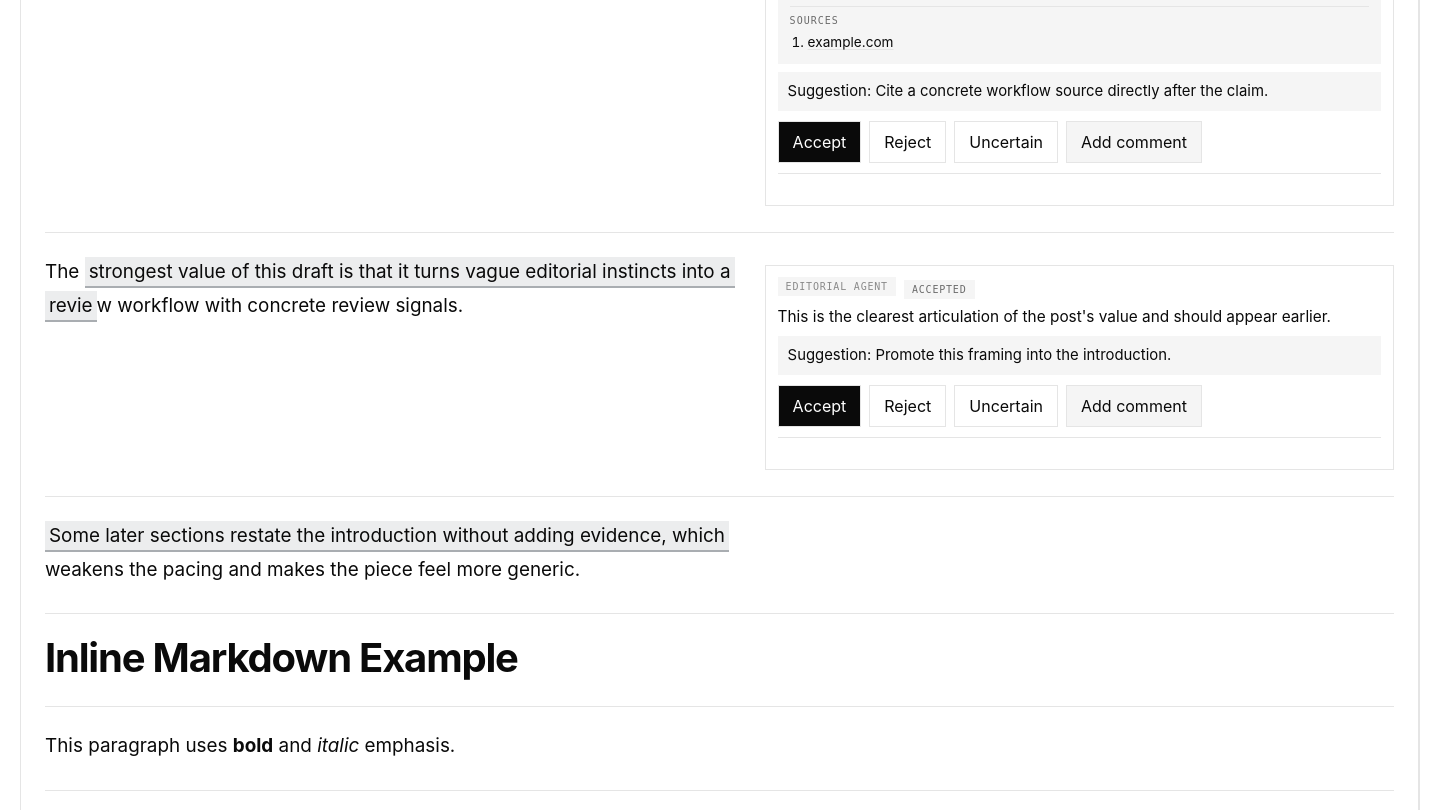
Test: ReviewWorkbench › reveals the inline comment composer only after clicking add comment
(page scrolled)
Step 1. Click the button with test id "reply-toggle-comment-2" → point(1134, 406), box x1=1066 y1=385 x2=1202 y2=427
(page scrolled)
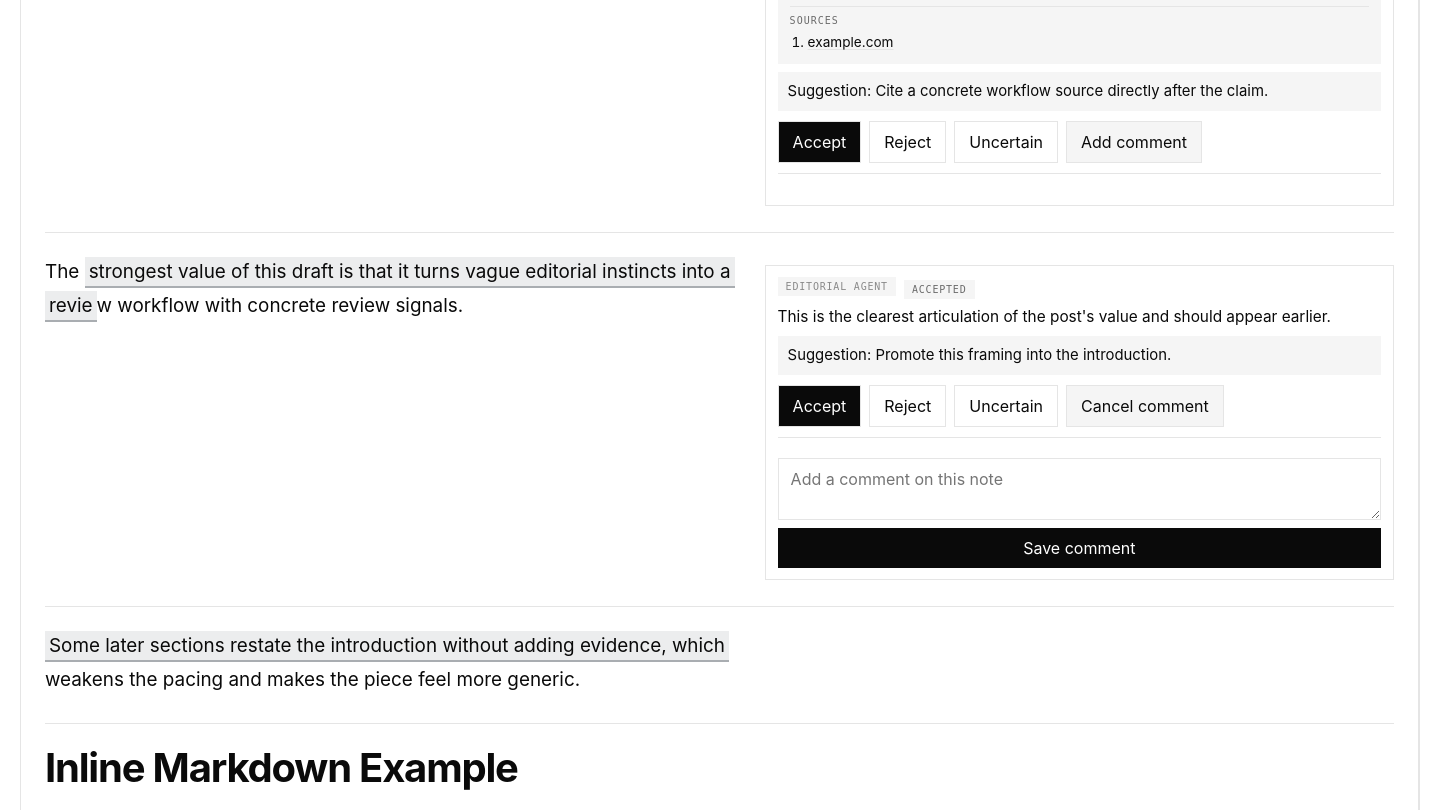
Expected: the text box with test id "reply-input-comment-2" is shown, x1=778 y1=458 x2=1381 y2=520
Expected: the button "Save comment" is shown, x1=778 y1=528 x2=1381 y2=568
